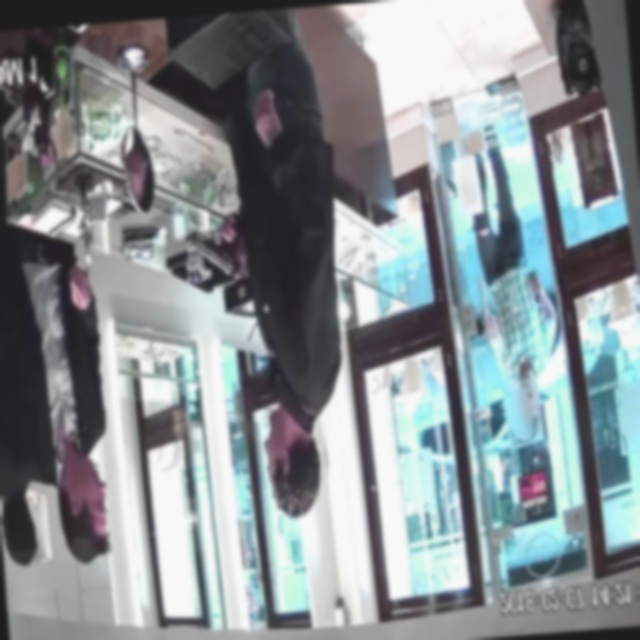gun: (177, 204, 253, 302)
